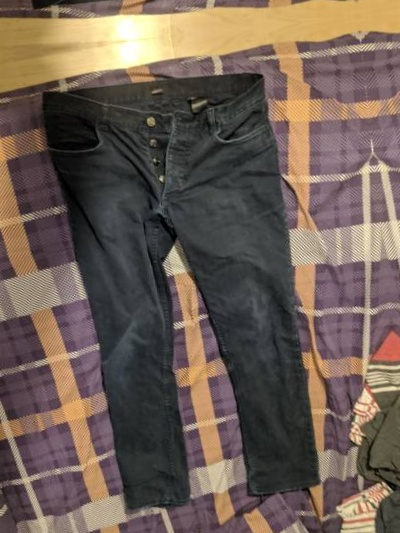Pants: (9, 54, 336, 517), (0, 0, 282, 23)
